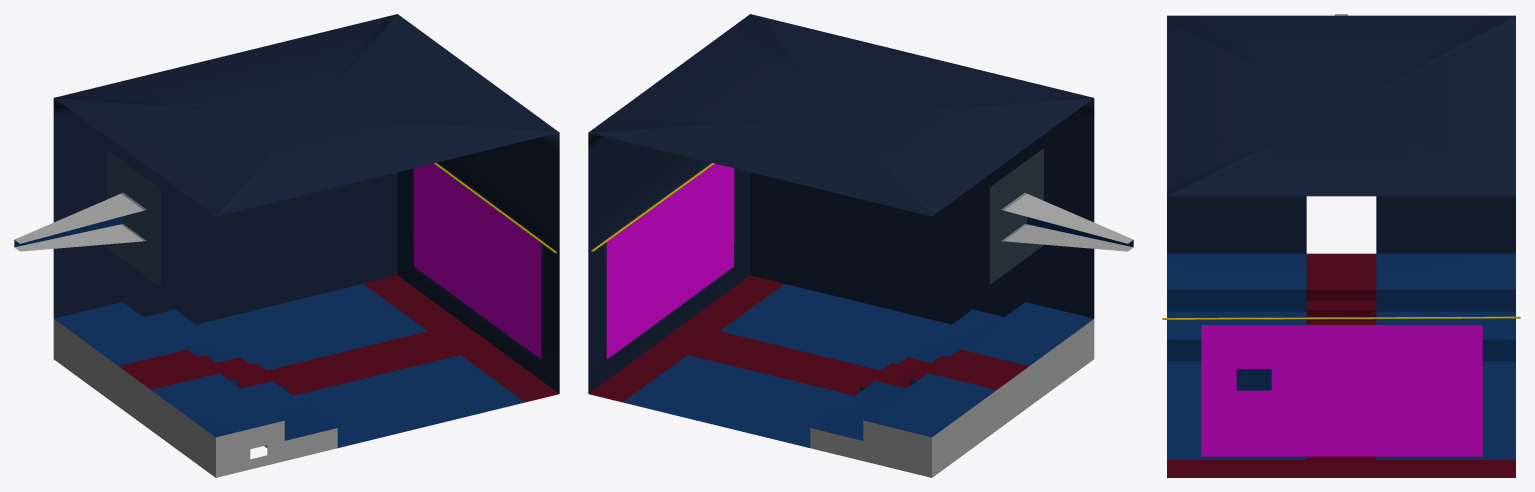
The model's file is Cinema.fbx.
3 views of the same model, side by side, from view 1: azimuth 30°, elevation 25°; view 2: azimuth 150°, elevation 25°; view 3: azimuth 270°, elevation 25° (orthographic). The views are drawn at different scales.
Visible parts, largest first — view 1: pPlane4, pPlane2; view 2: pPlane4, pPlane2; view 3: pPlane4, pPlane2.
Part boxes in pixels (box(x1,y1,x2,y2)): pPlane4: box(14, 14, 559, 477); pPlane2: box(413, 163, 541, 359); pPlane4: box(588, 14, 1133, 477); pPlane2: box(606, 163, 734, 359); pPlane4: box(1162, 14, 1520, 477); pPlane2: box(1201, 325, 1482, 456).
Bounding box in the file's own units: 490 × 265 × 306.
